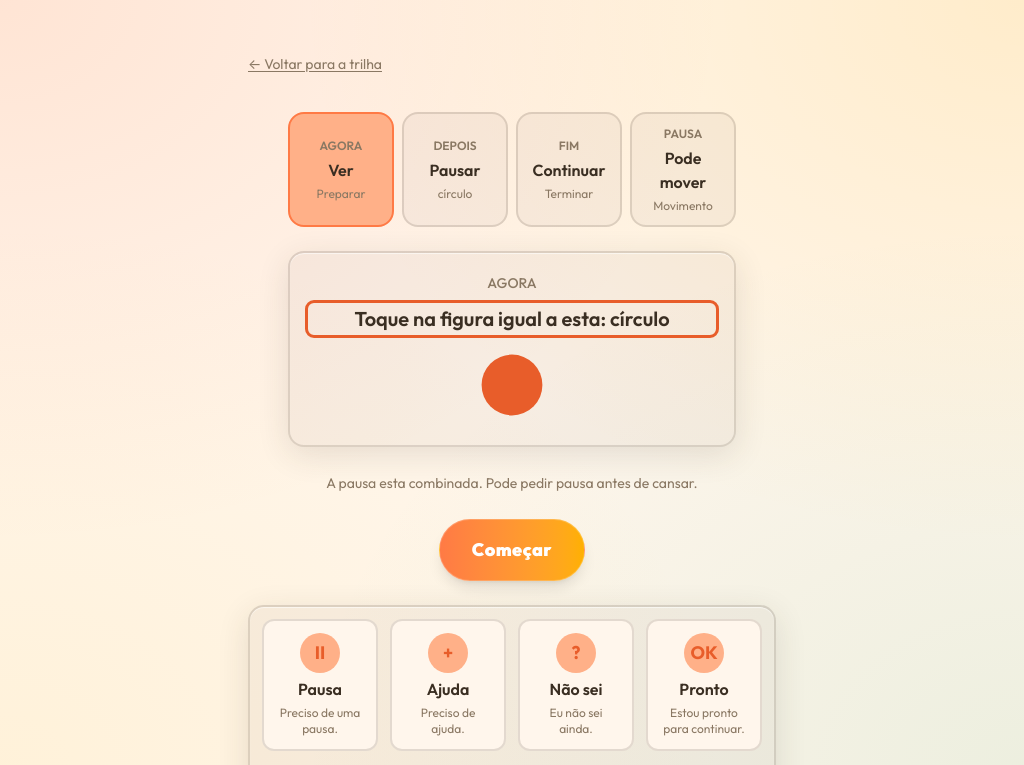
Test: Atividade › adapta a pausa quando o perfil regula melhor com movimento
This screenshot has width=1024, height=765.
Expected: the text "Pode mover" is shown, [660,148,706,192]
Expected: the text "Movimento" is shown, [653,198,713,213]
Click the button named "Pausa. Preciso de uma pausa.": x=320, y=685 [262,619,378,751]
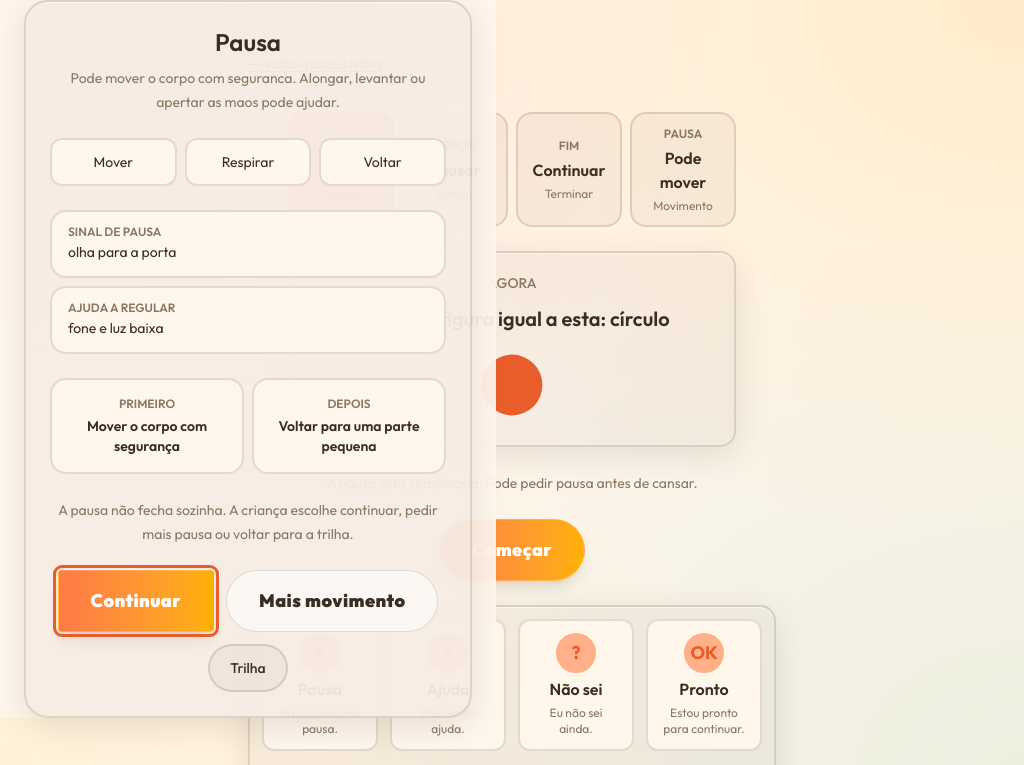
Expected: the text "Pode mover o corpo com seguranca. Alongar, levantar ou apertar as maos pode ajudar." is shown, [70,69,425,111]
Expected: the text "Mover" is shown, [50,138,177,186]
Expected: the text "Mover o corpo com segurança" is shown, [87,417,207,455]
